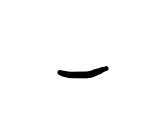minus: (57, 66, 109, 78)
